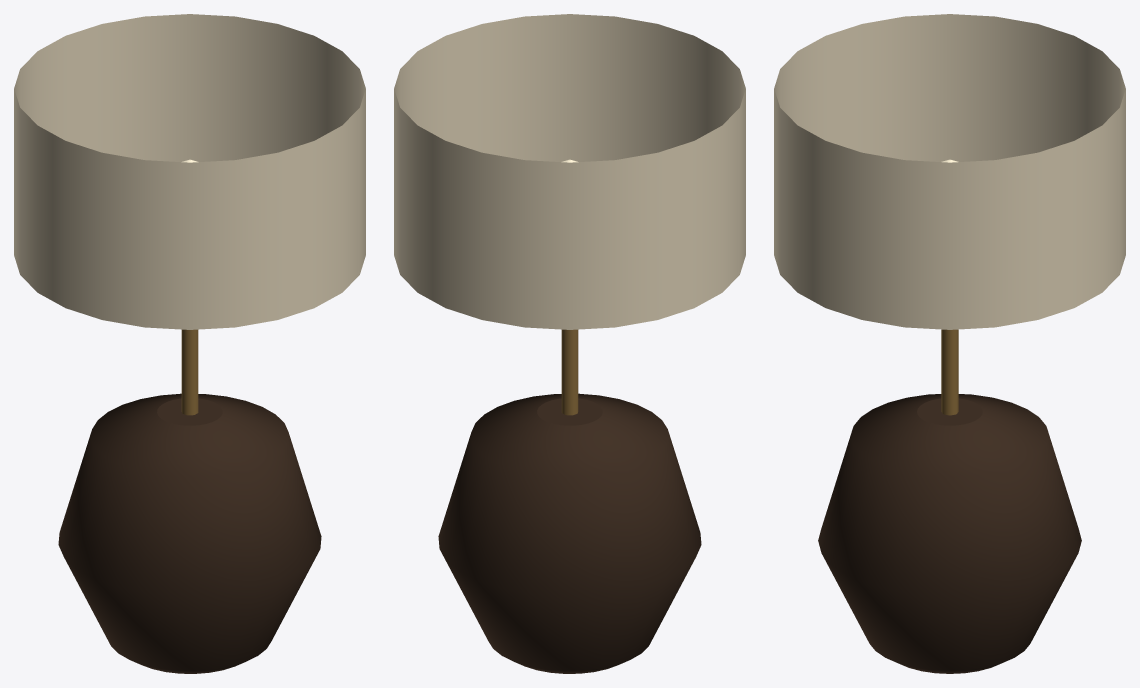
The model's file is BIB-TLP-std.glb.
3 renders of one model, left to right at view 1: azimuth 30°, elevation 25°; view 2: azimuth 150°, elevation 25°; view 3: azimuth 270°, elevation 25°, orthographic.
Parts seen in each view (by area): view 1: BIB-TLP-std; view 2: BIB-TLP-std; view 3: BIB-TLP-std.
Boxes of the visible parts, left/top/right/bottom form: BIB-TLP-std: left=14, top=14, right=365, bottom=673; BIB-TLP-std: left=394, top=14, right=745, bottom=673; BIB-TLP-std: left=774, top=14, right=1125, bottom=673.
Bounding box in the file's own units: 0.32 × 0.56 × 0.32.
